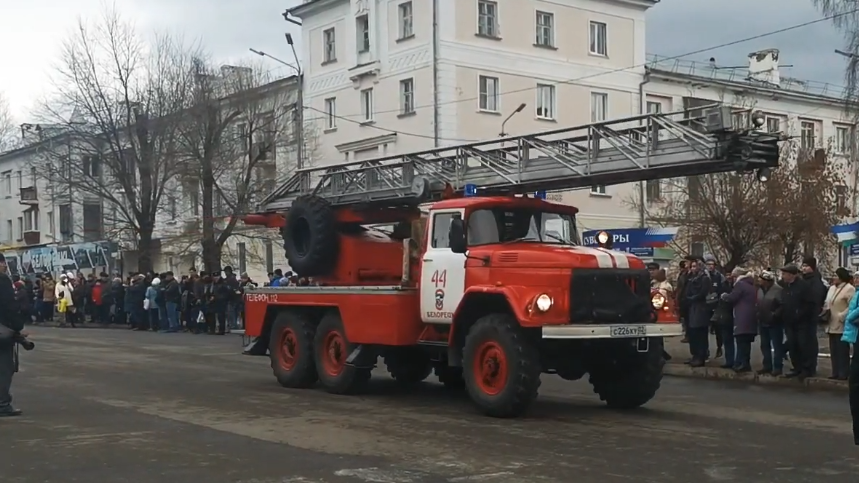fire fighting vehicle: (242, 100, 776, 419)
